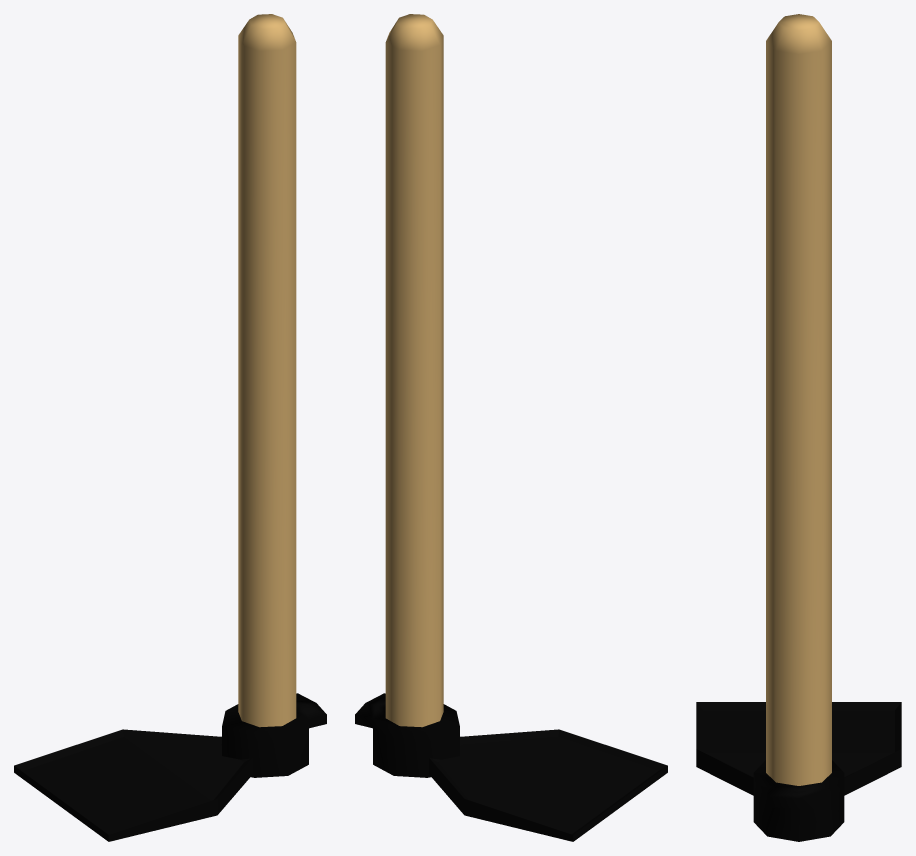
File: enxadaarmaAgroboy.fbx
3 renders of one model, left to right at view 1: azimuth 30°, elevation 25°; view 2: azimuth 150°, elevation 25°; view 3: azimuth 270°, elevation 25°, orthographic. The views are drawn at different scales.
Parts seen in each view (by area): view 1: Cube; view 2: Cube; view 3: Cube.
Part boxes in pixels (x1=…): Cube: x1=14, y1=14, x2=326, y2=841; Cube: x1=355, y1=14, x2=667, y2=841; Cube: x1=696, y1=14, x2=901, y2=841.
Bounding box in the file's own units: 315 × 871 × 202.
